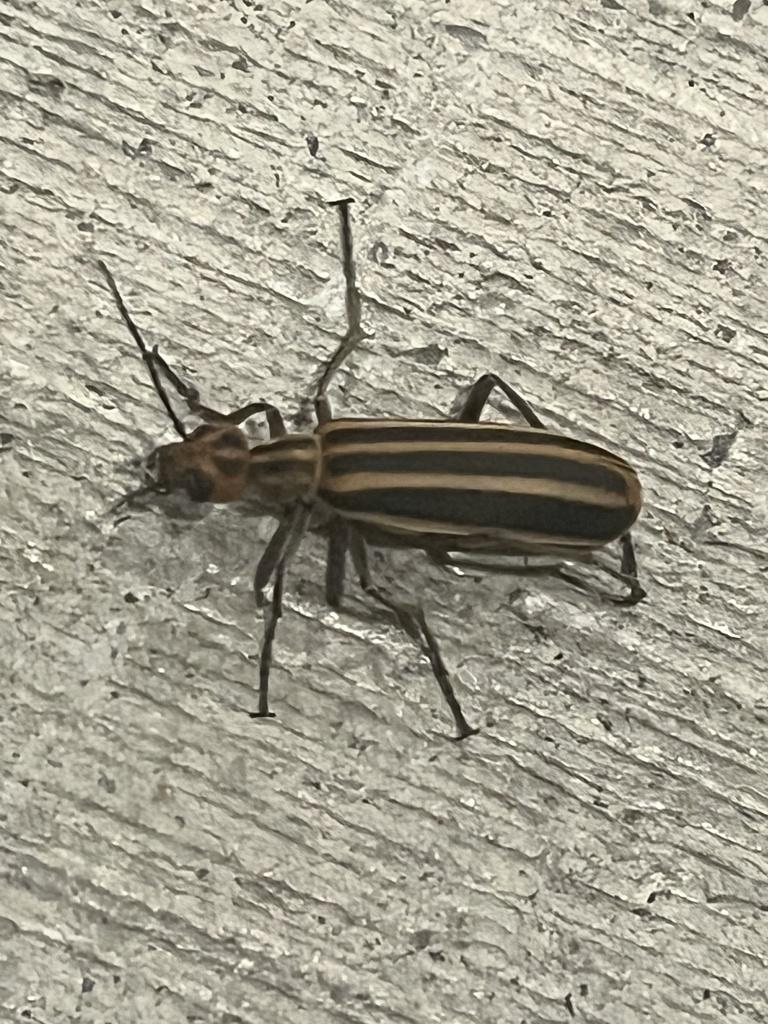blister_beetle: (0, 150, 753, 797)
